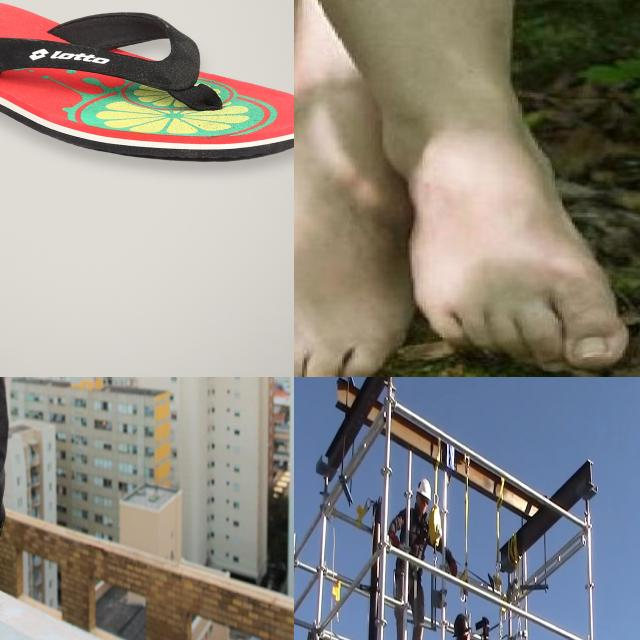Barefoots: (419, 114, 640, 377), (294, 118, 408, 377)
Harness: (394, 509, 428, 607)
Sandals: (0, 0, 294, 163)
